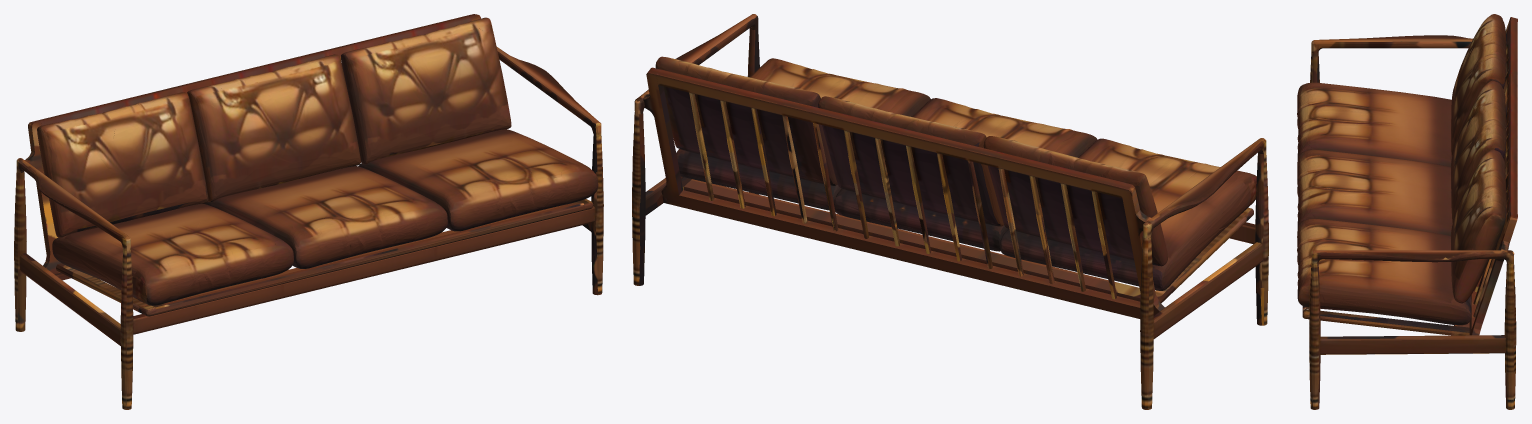
The model's file is edited_mesh.glb.
3 renders of one model, left to right at view 1: azimuth 30°, elevation 25°; view 2: azimuth 150°, elevation 25°; view 3: azimuth 270°, elevation 25°, orthographic. The views are drawn at different scales.
Parts seen in each view (by area): view 1: solid_001_wire; view 2: solid_001_wire; view 3: solid_001_wire.
Boxes of the visible parts, <box> form: solid_001_wire: <box>14,14,603,409</box>; solid_001_wire: <box>632,14,1268,409</box>; solid_001_wire: <box>1297,14,1517,409</box>.
Bounding box in the file's own units: 2 × 0.7861 × 0.8303.
Materials: 1 (1 with a texture image).
